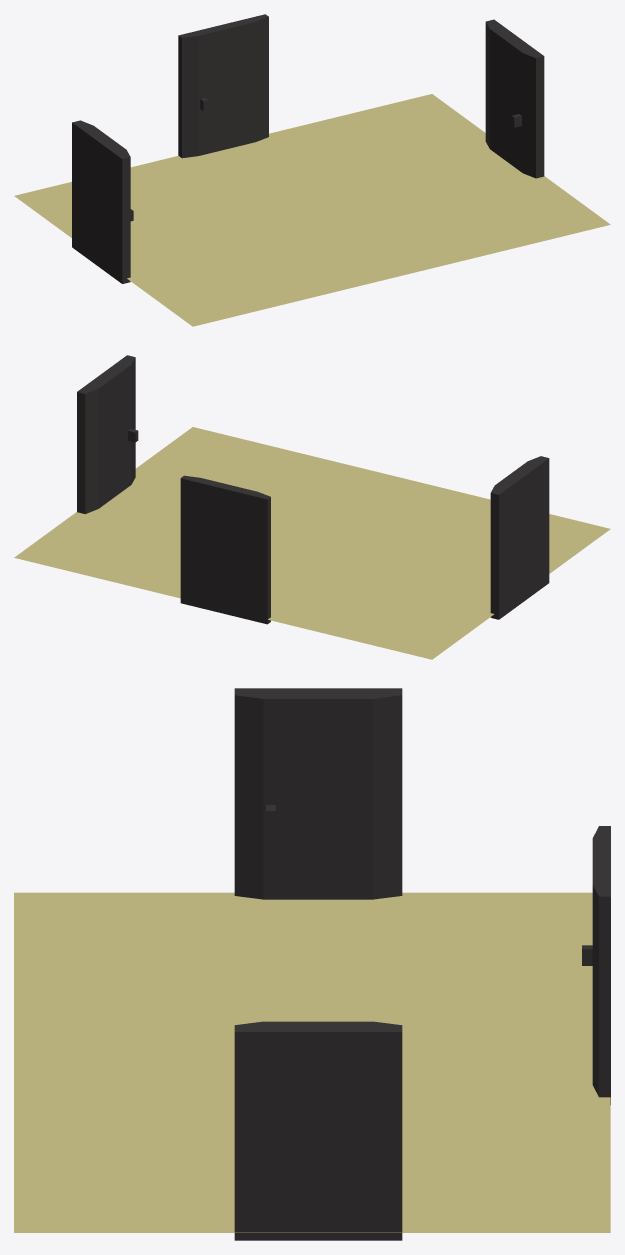
The model's file is ByakkoStage4.6.fbx.
3 views of the same model, one above another, from view 1: azimuth 30°, elevation 25°; view 2: azimuth 150°, elevation 25°; view 3: azimuth 270°, elevation 25° (orthographic). The views are drawn at different scales.
Visible parts, largest first — view 1: Plane.027, Plane.037; view 2: Plane.027, Plane.037; view 3: Plane.027, Plane.037.
Part boxes in pixels (x1,y1,x2,y2): Plane.027: (14, 94, 610, 326); Plane.037: (72, 14, 544, 283); Plane.027: (14, 427, 610, 659); Plane.037: (77, 355, 549, 624); Plane.027: (14, 892, 610, 1232); Plane.037: (234, 688, 610, 1240).
Size of the model in its own units: 34.66 by 9.8 by 25.42.
